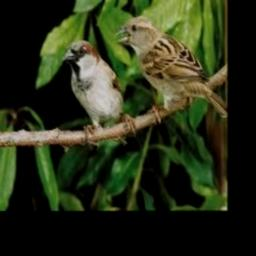Sparrow: (114, 16, 228, 124), (62, 40, 135, 144)
